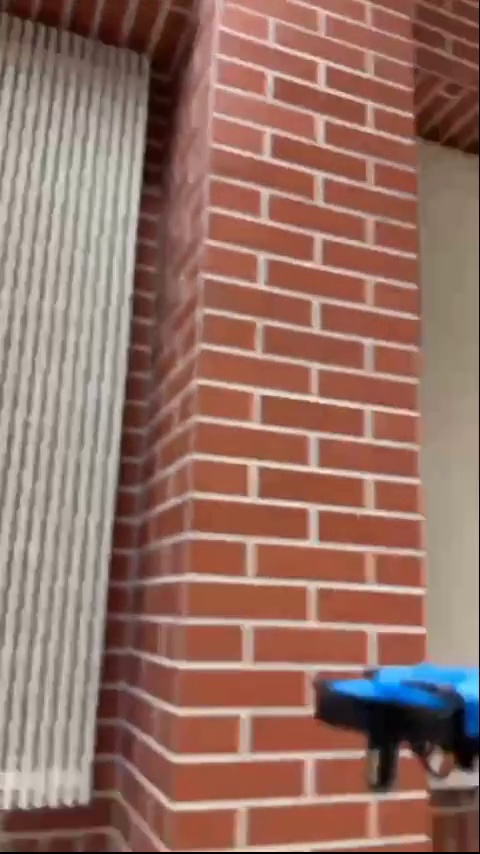drone: (299, 661, 480, 793)
